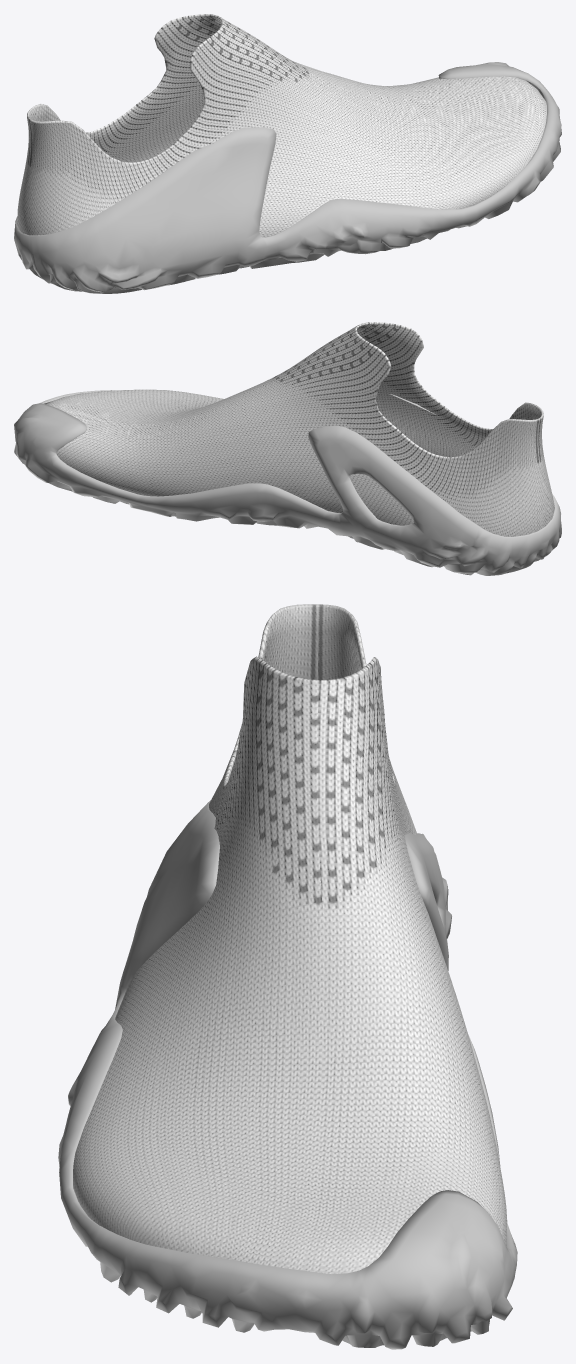
The model's file is WingWhite.glb.
3 renders of one model, top to bottom at view 1: azimuth 30°, elevation 25°; view 2: azimuth 150°, elevation 25°; view 3: azimuth 270°, elevation 25°, orthographic. The views are drawn at different scales.
Parts seen in each view (by area): view 1: Wing_Low; view 2: Wing_Low; view 3: Wing_Low.
Part boxes in pixels (x1,y1,x2,y2): Wing_Low: (14, 14, 561, 293); Wing_Low: (14, 322, 561, 575); Wing_Low: (58, 604, 517, 1349).
Bounding box in the file's own units: 0.5061 × 0.1951 × 0.1977.
Materials: 1 (1 with a texture image).
